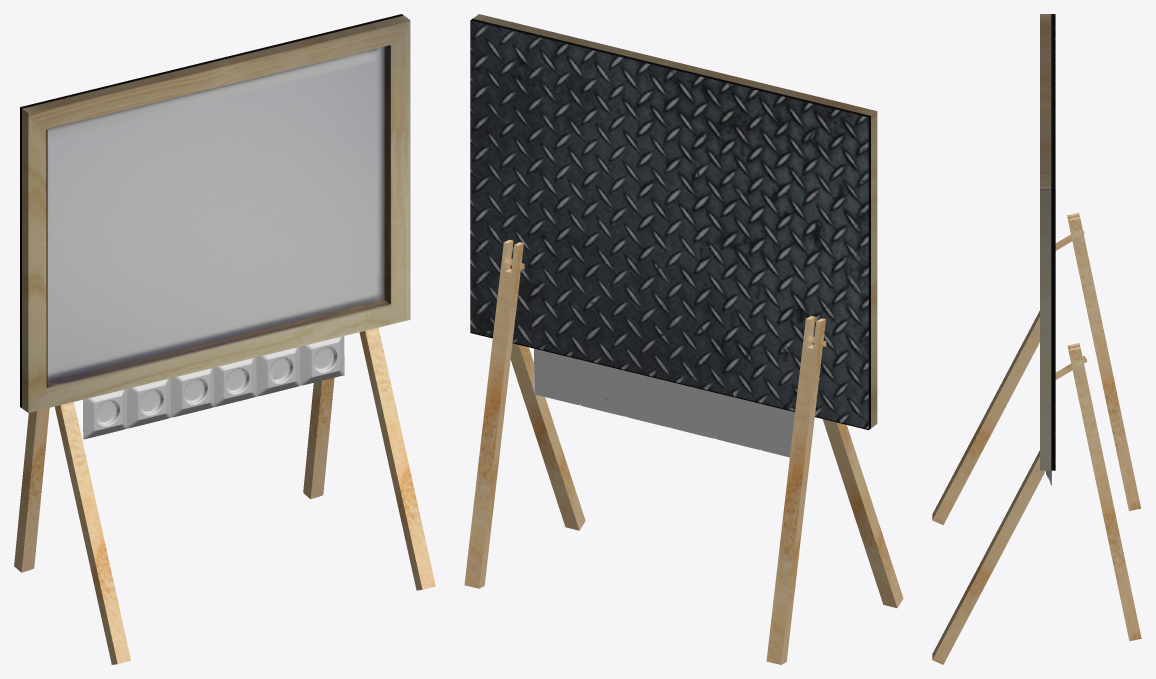
Rendered from whiteboard.fbx.
3 renders of one model, left to right at view 1: azimuth 30°, elevation 25°; view 2: azimuth 150°, elevation 25°; view 3: azimuth 270°, elevation 25°, orthographic. The views are drawn at different scales.
Parts seen in each view (by area): view 1: whiteboard, pPlane10, pCube7, pCube10, pCube8, pCube2; view 2: whiteboard, pPlane10, pCube8, pCube2, pCube10, pCube7; view 3: whiteboard, pCube2, pCube8, pCube7, pCube10.
Part boxes in pixels (x1,y1,x2,y2): whiteboard: [20, 14, 410, 412]; pPlane10: [83, 336, 344, 439]; pCube7: [359, 327, 435, 590]; pCube10: [55, 402, 130, 664]; pCube8: [14, 408, 49, 572]; pCube2: [303, 377, 334, 499]; whiteboard: [470, 14, 877, 430]; pPlane10: [534, 348, 794, 457]; pCube8: [766, 316, 825, 664]; pCube2: [464, 239, 523, 588]; pCube10: [822, 419, 903, 607]; pCube7: [510, 343, 585, 530]; whiteboard: [1040, 14, 1055, 470]; pCube2: [1067, 343, 1141, 640]; pCube8: [1067, 213, 1140, 510]; pCube7: [932, 450, 1045, 664]; pCube10: [932, 311, 1039, 524].
Size of the model in its own units: 200 by 261 by 101.
3 materials, 2 textured.
